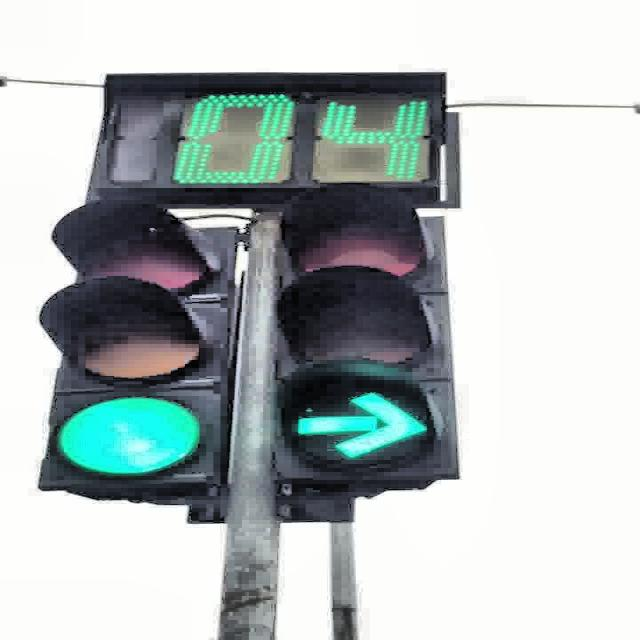green: (34, 198, 237, 489), (266, 183, 459, 479)
